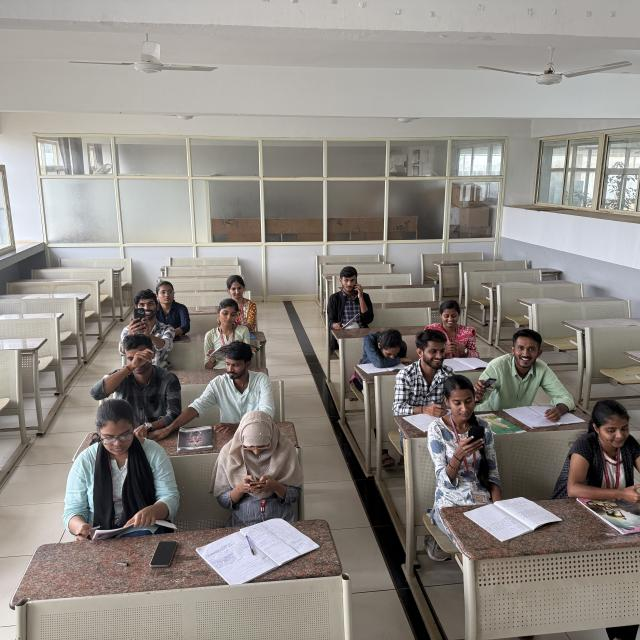Reading: (204, 297, 260, 372), (435, 297, 489, 370)
Sleeping: (358, 327, 412, 365)
Using Phone: (218, 405, 300, 511), (431, 381, 505, 488), (119, 288, 172, 355), (325, 265, 375, 312)
Writing: (71, 402, 177, 540)
